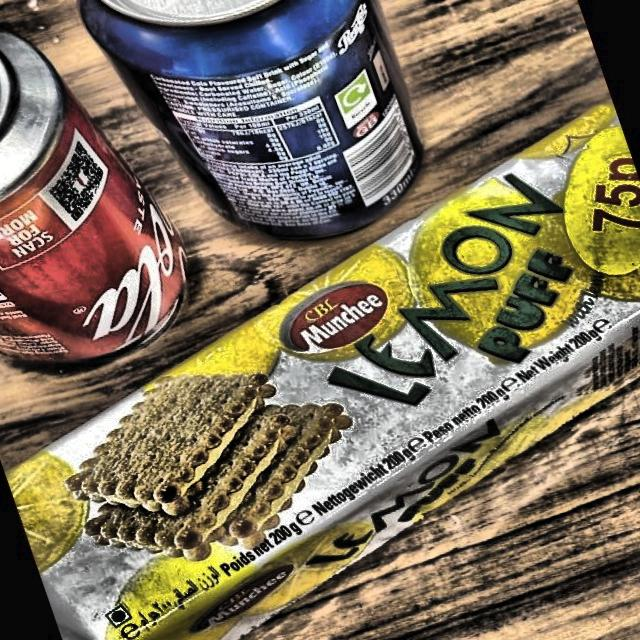coke-can: (0, 39, 189, 379)
lemon puff: (0, 113, 640, 637)
pepsi-can: (83, 3, 423, 237)
